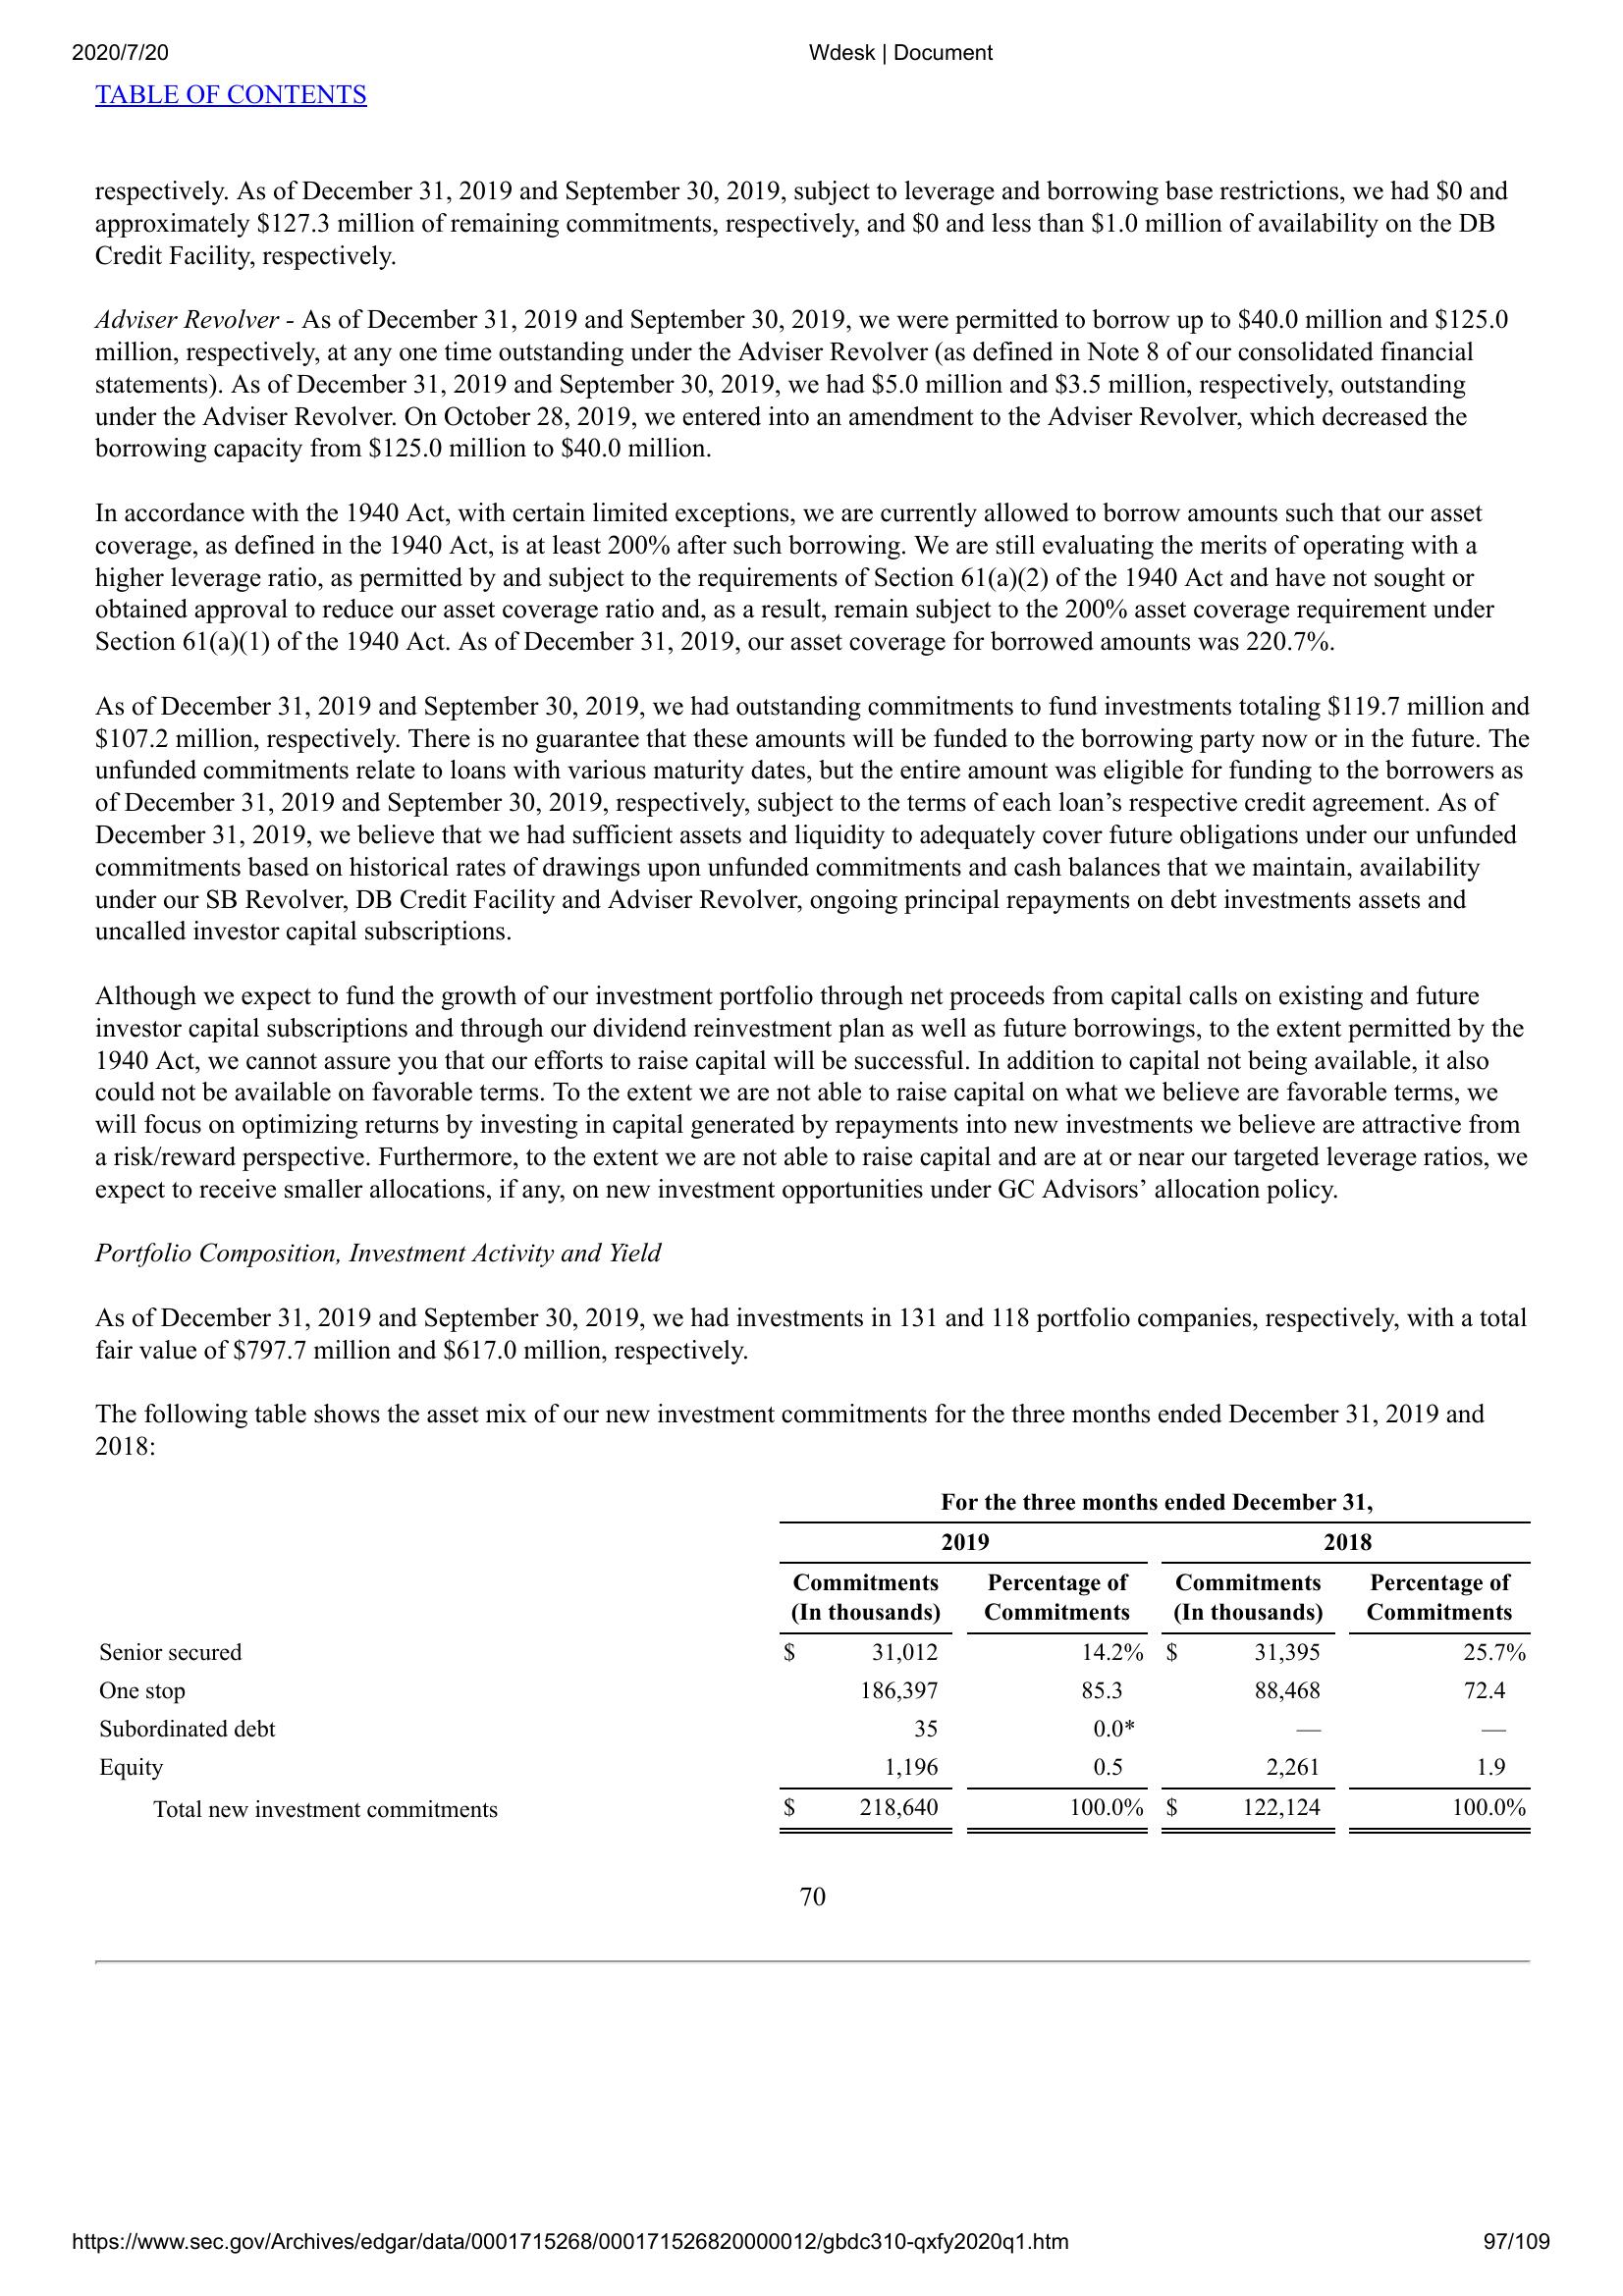table: (90, 1482, 1540, 1843)
